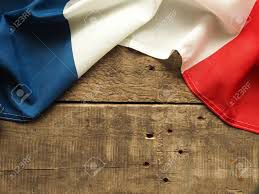French Flag: (1, 1, 258, 133)
